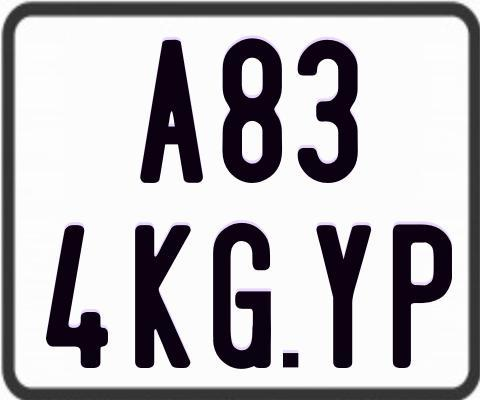3: (297, 37, 358, 180)
4: (44, 222, 111, 369)
8: (221, 36, 283, 187)
A: (140, 37, 207, 186)
G: (211, 223, 269, 373)
K: (134, 223, 192, 367)
P: (390, 224, 453, 370)
Y: (316, 223, 376, 370)
